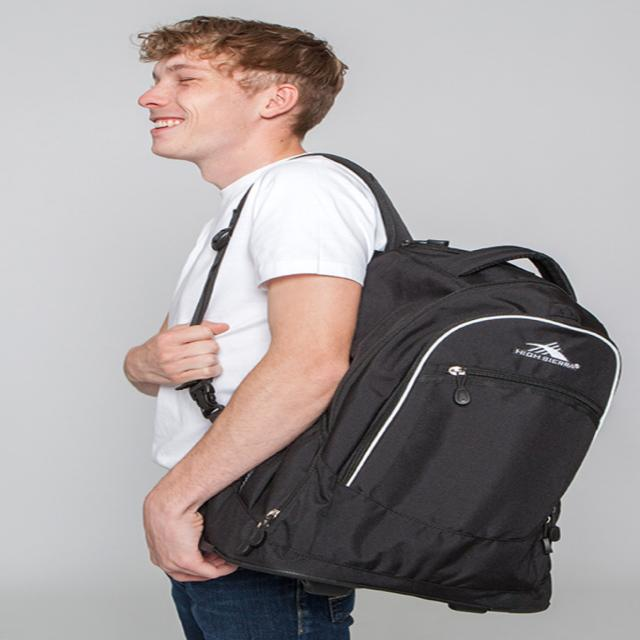backpack: (190, 146, 620, 614)
